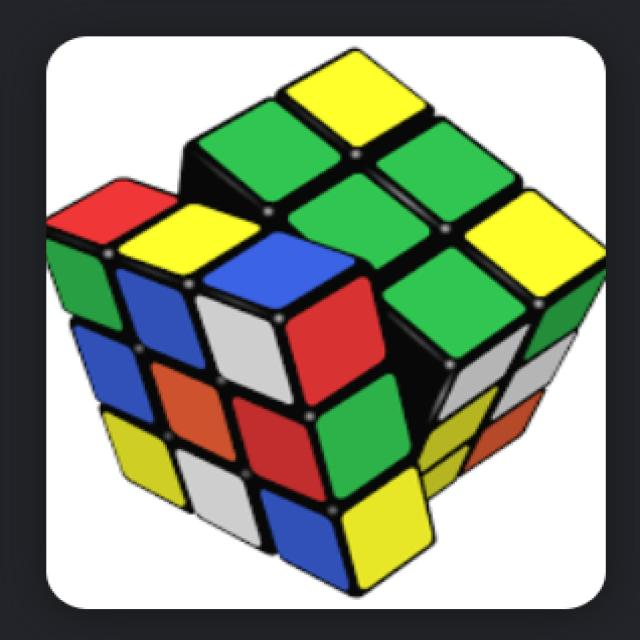Cubo-No-resuelto: (46, 49, 604, 595)
